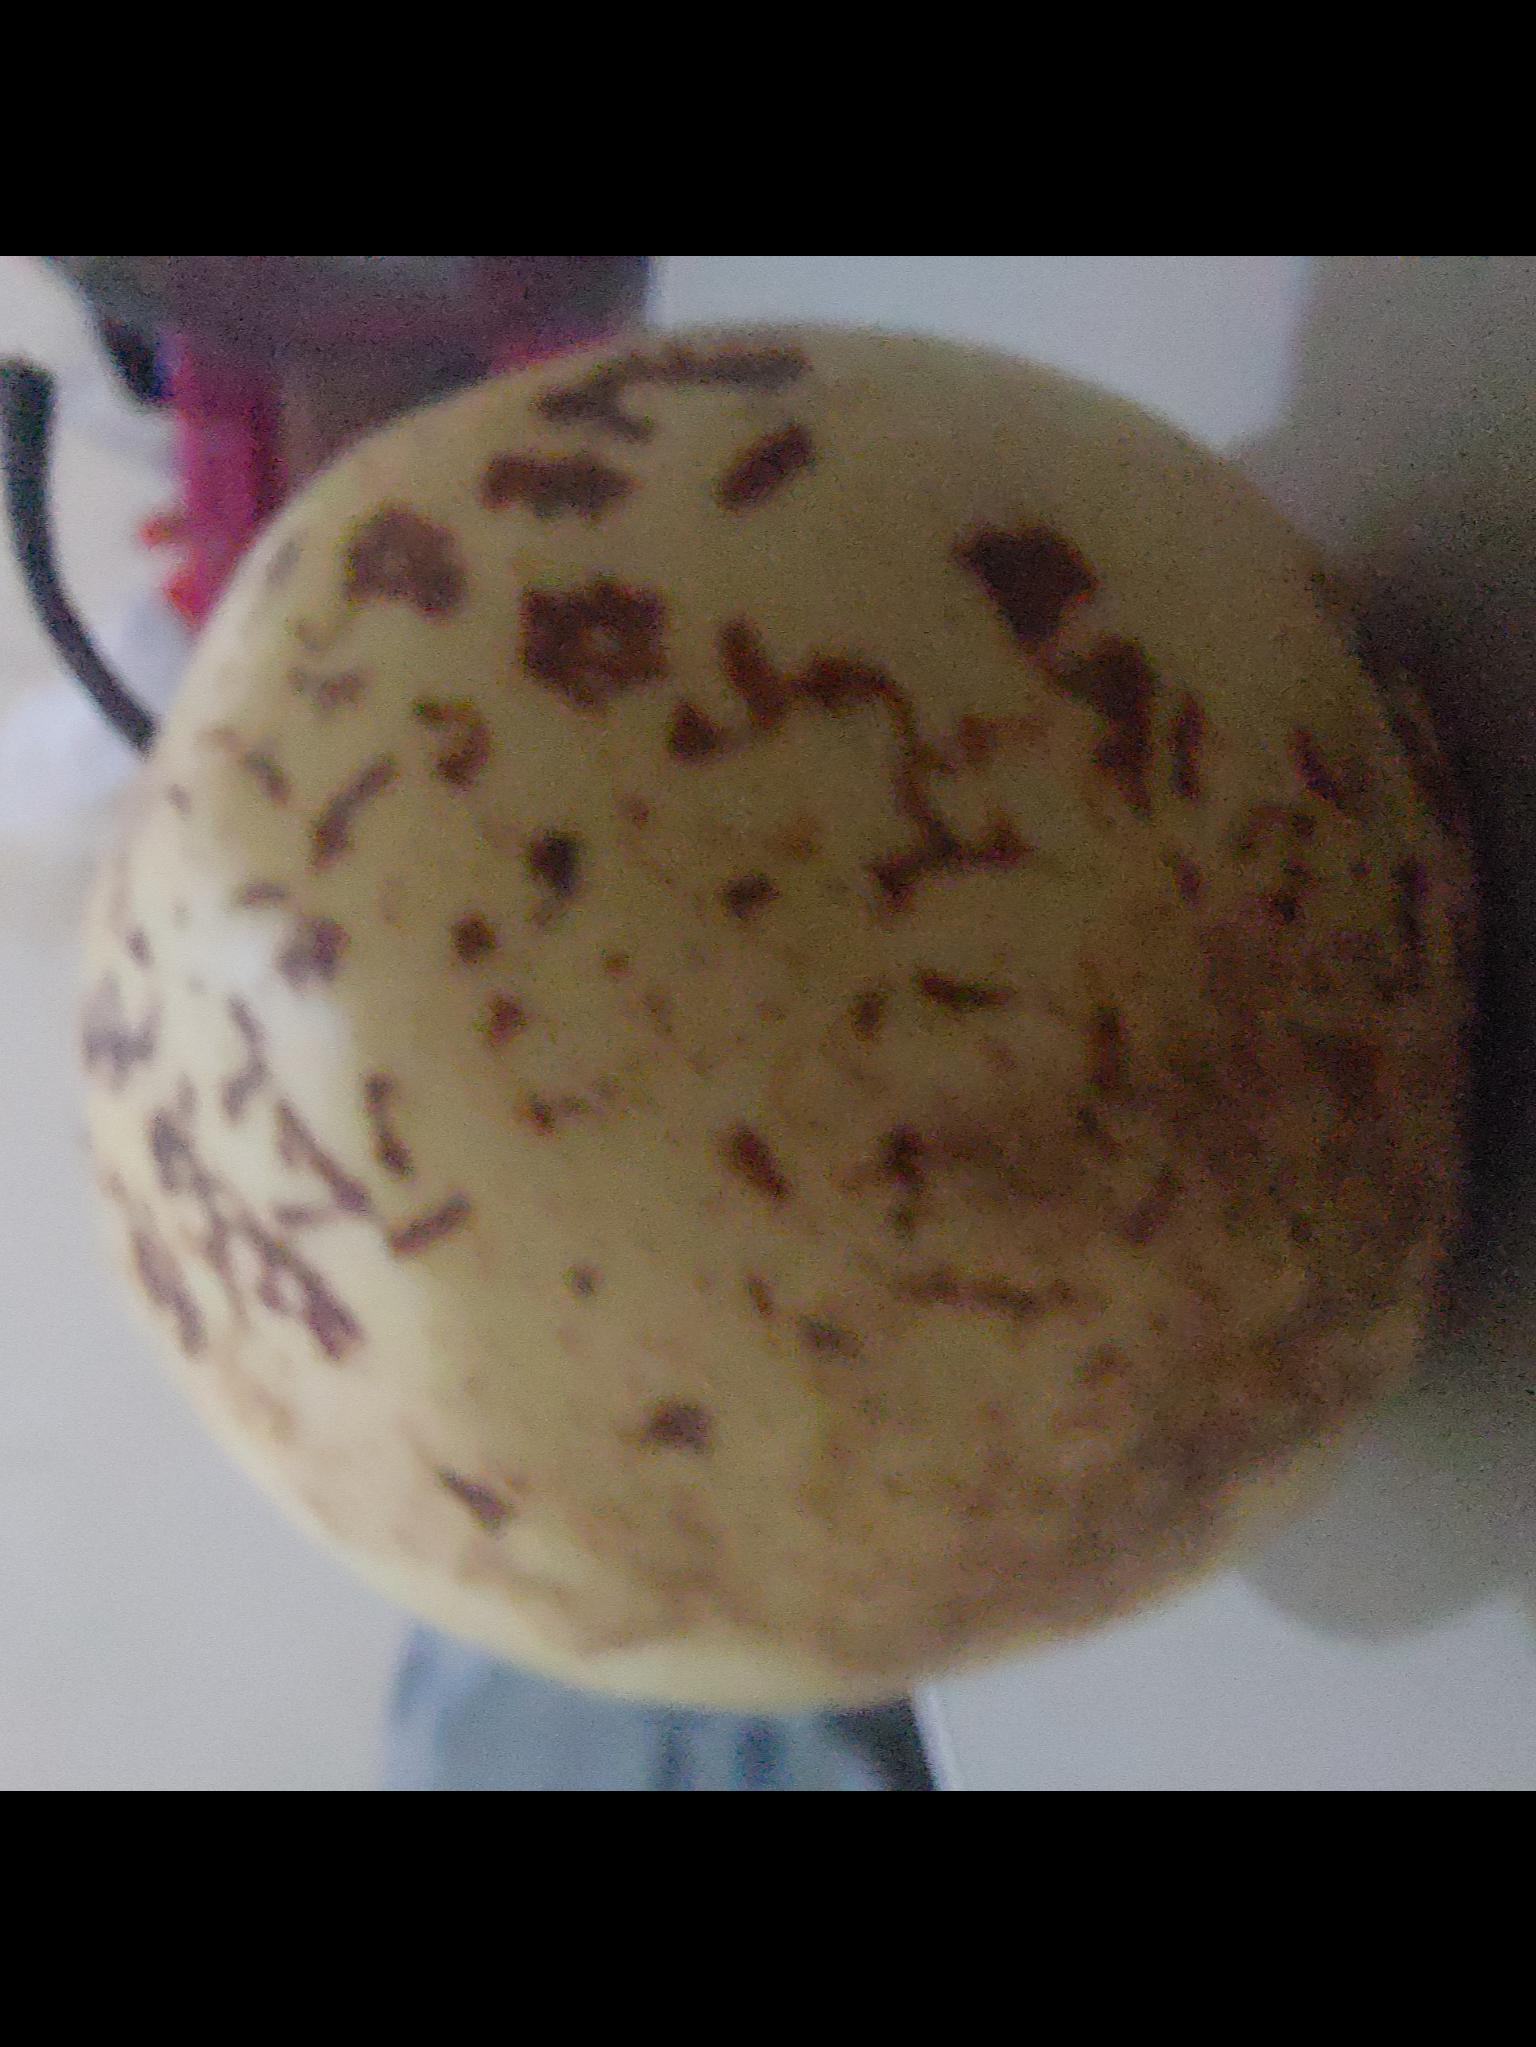Bad Pear: (0, 255, 1534, 1724)
